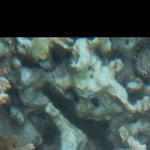dead: (1, 39, 148, 148)
